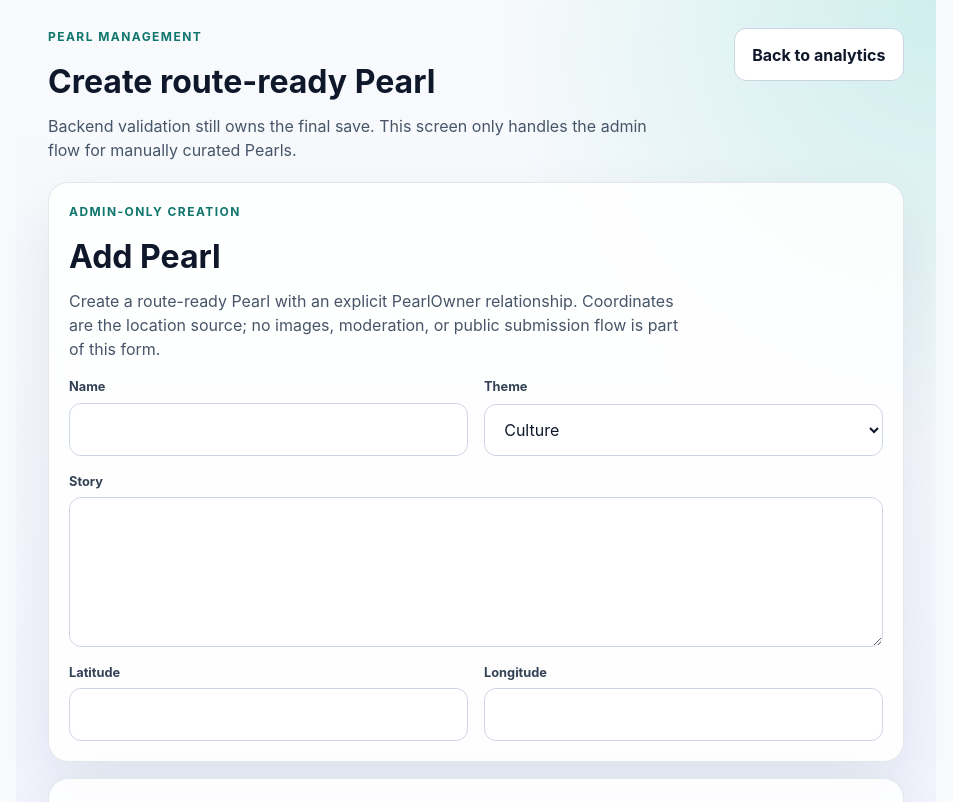
Test: AdminAddPearlPage › shows validation errors for invalid coordinates
Type "Hidden Courtyard" into the field labelled "Name" at (268, 429), box x1=69 y1=403 x2=468 y2=456
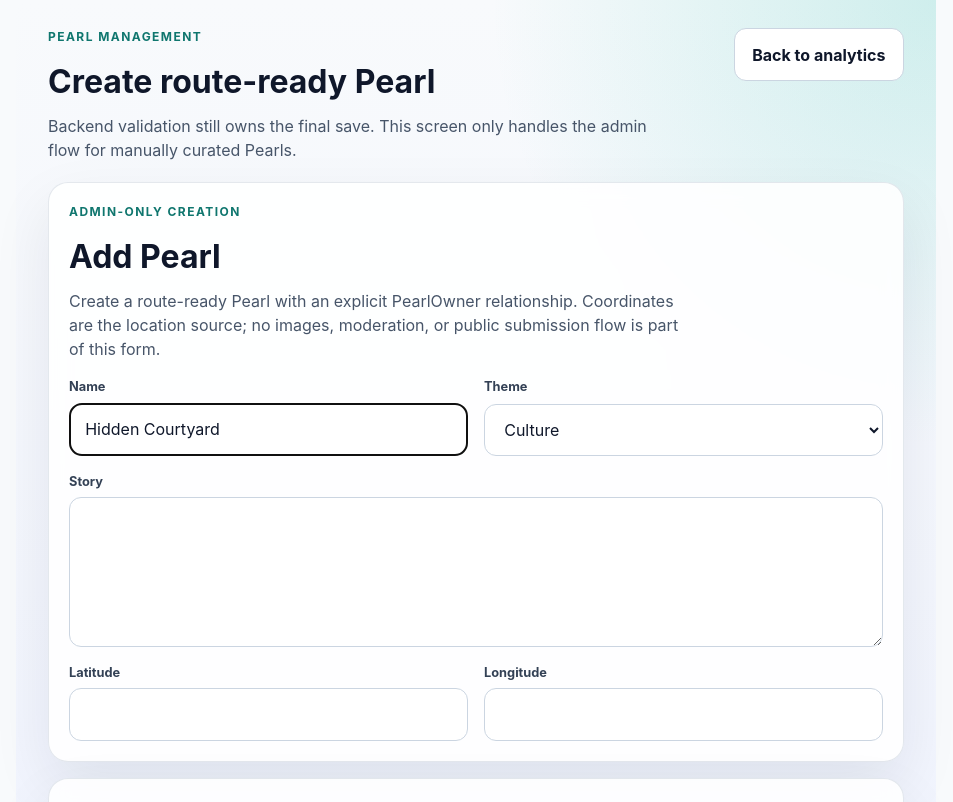
Type "A small story about a quiet courtyard in Brussels." into the text box labelled "Story" at (476, 572), box x1=69 y1=497 x2=883 y2=646
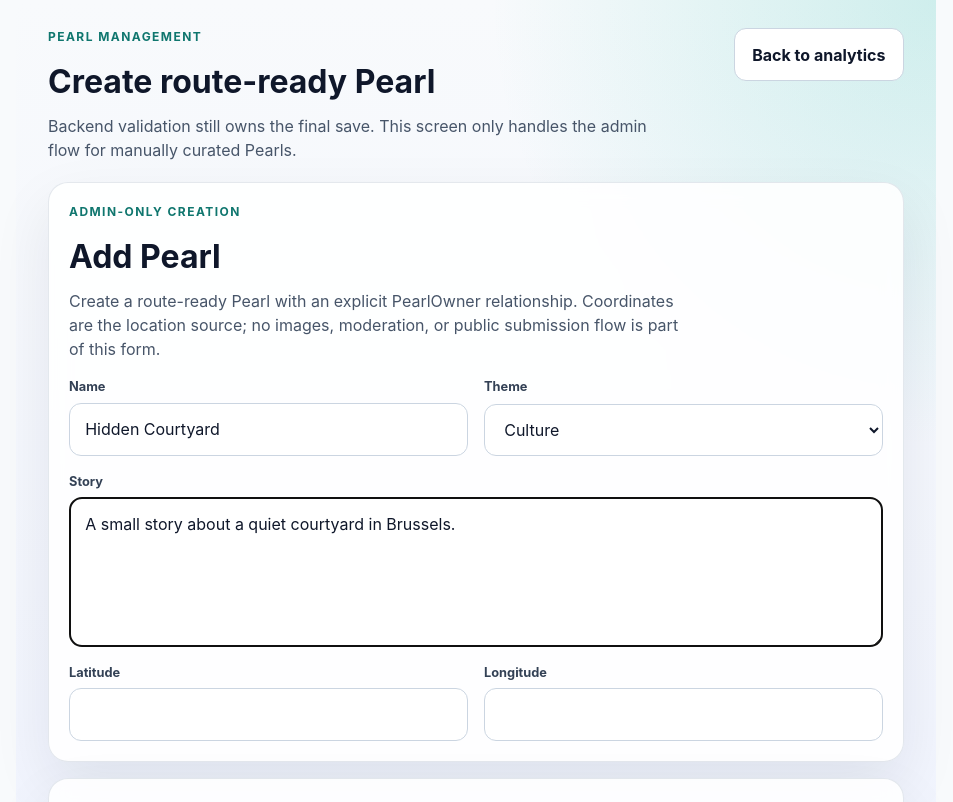
Type "91" into the field labelled "Latitude" at (268, 715), box x1=69 y1=688 x2=468 y2=741
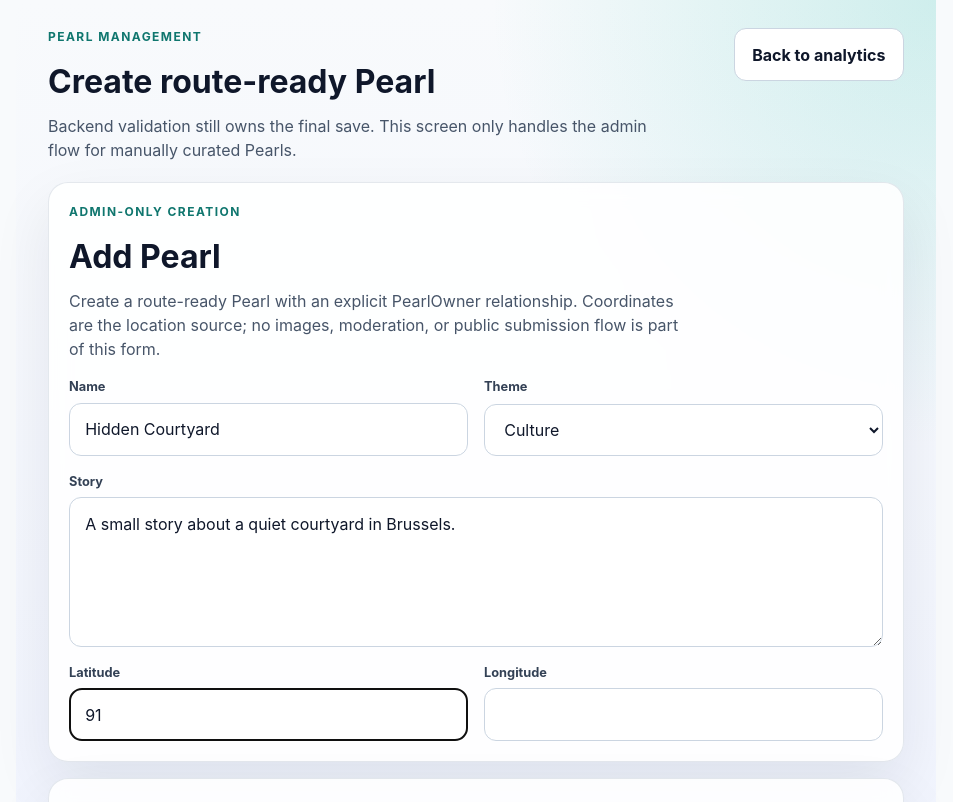
Type "181" into the field labelled "Longitude" at (684, 715), box x1=484 y1=688 x2=883 y2=741
(page scrolled)
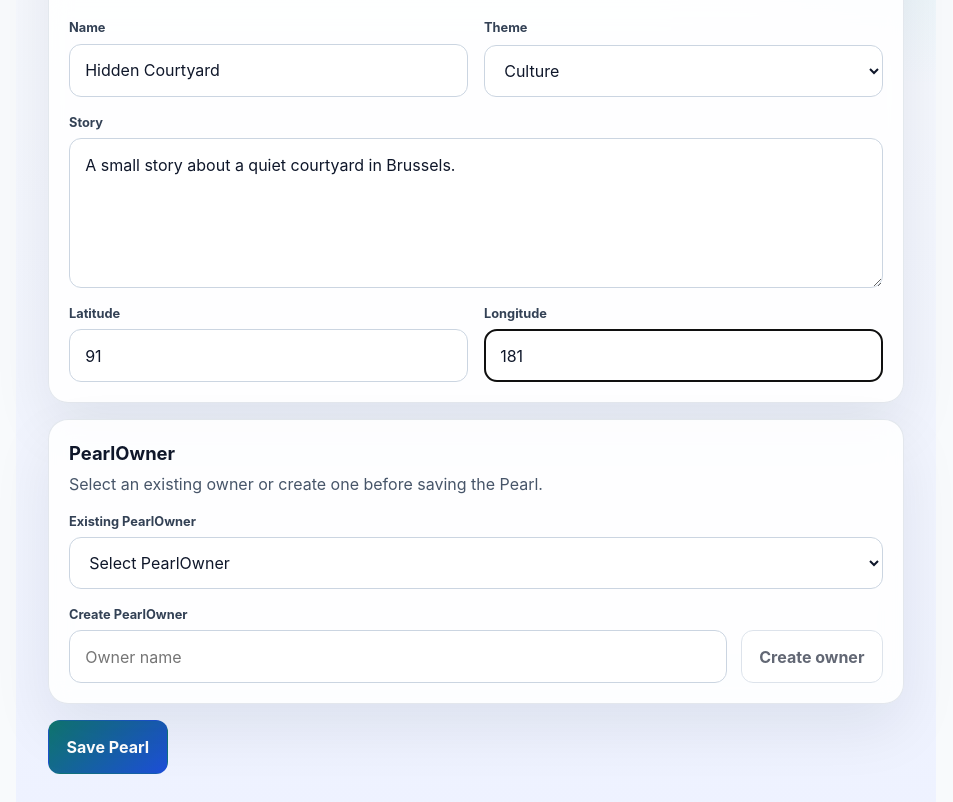
Select "Visit Brussels" in the dropdown labelled "Existing PearlOwner" at (476, 563), box x1=69 y1=538 x2=883 y2=589
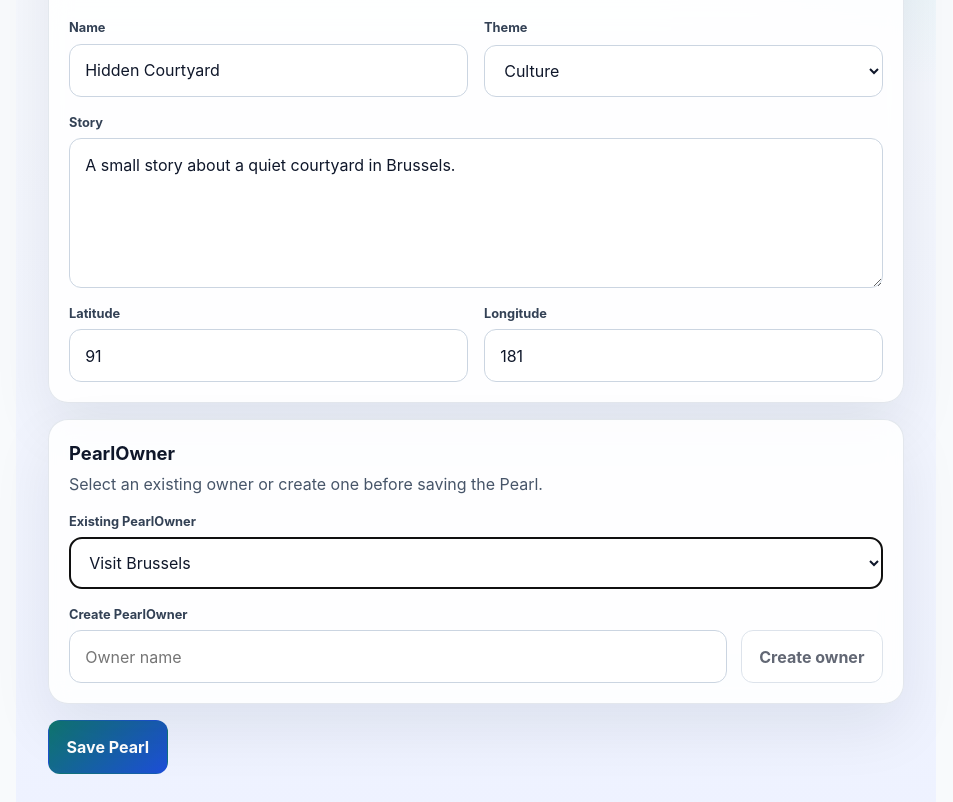
Click the button "Save Pearl" at (108, 747), box x1=48 y1=720 x2=168 y2=774
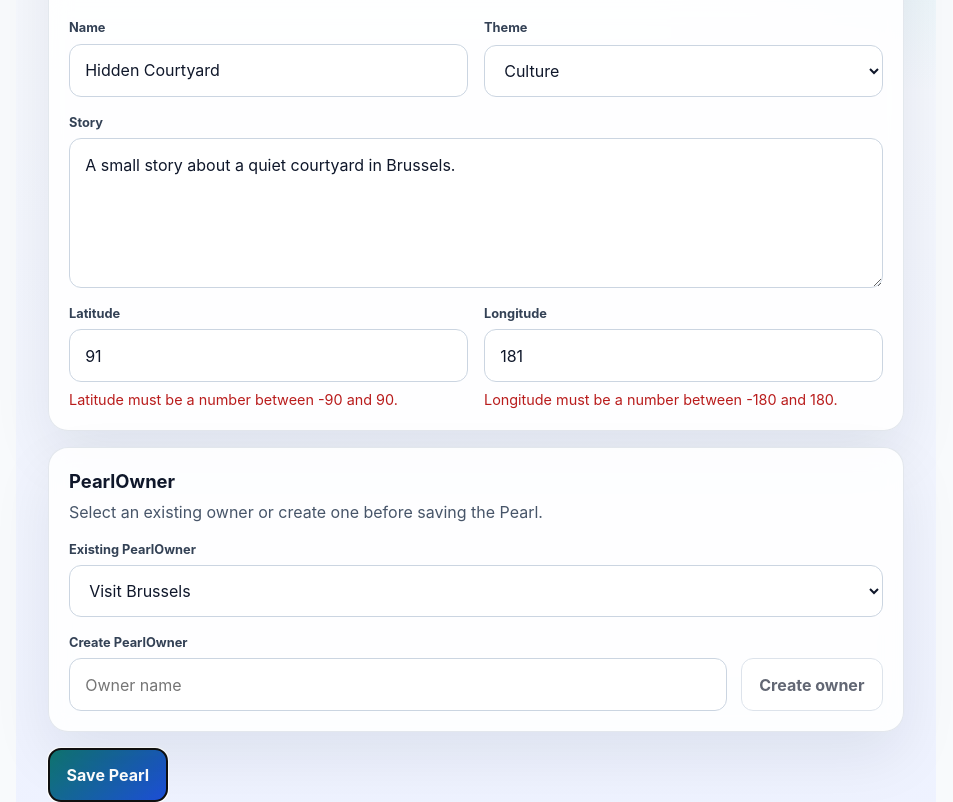
Expected: the text "Latitude must be a number between -90 and 90." is shown, x1=69 y1=391 x2=398 y2=408
Expected: the text "Longitude must be a number between -180 and 180." is shown, x1=484 y1=389 x2=883 y2=410
